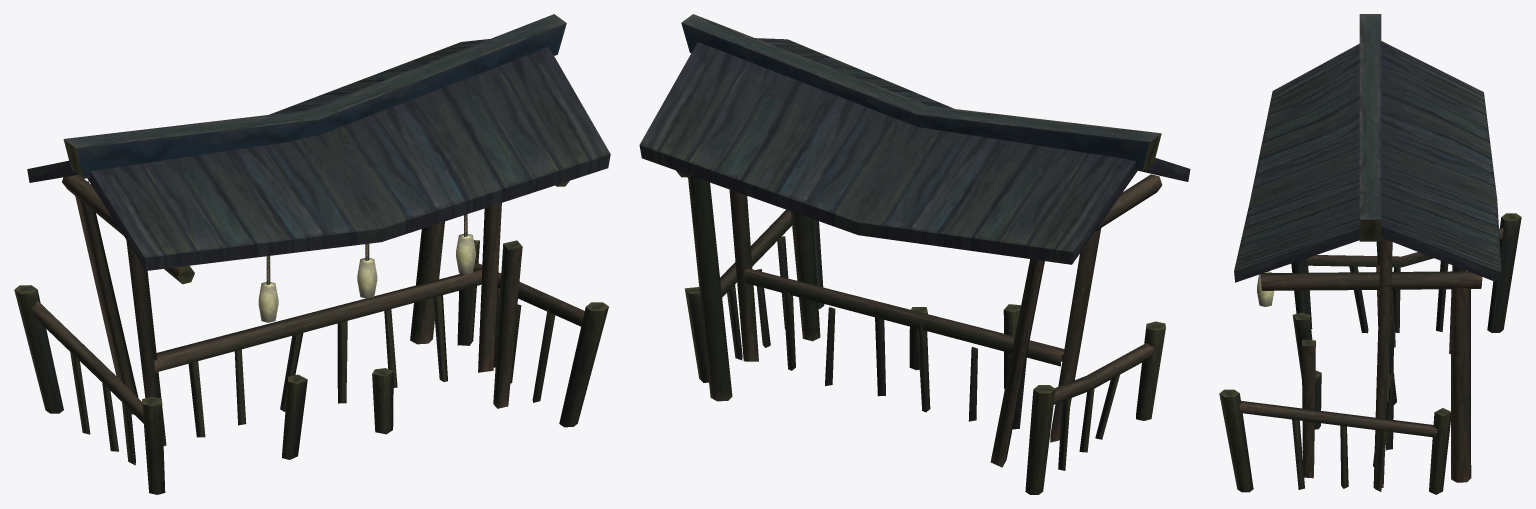
The model's file is pomajiu2.FBX.
3 views of the same model, side by side, from view 1: azimuth 30°, elevation 25°; view 2: azimuth 150°, elevation 25°; view 3: azimuth 270°, elevation 25° (orthographic). The views are drawn at different scales.
Parts seen in each view (by area): view 1: pomajiu2; view 2: pomajiu2; view 3: pomajiu2.
Boxes of the visible parts, x1=… form: pomajiu2: x1=14, y1=14, x2=610, y2=494; pomajiu2: x1=639, y1=14, x2=1190, y2=494; pomajiu2: x1=1219, y1=14, x2=1521, y2=494.
Bounding box in the file's own units: 733 × 445 × 483.
